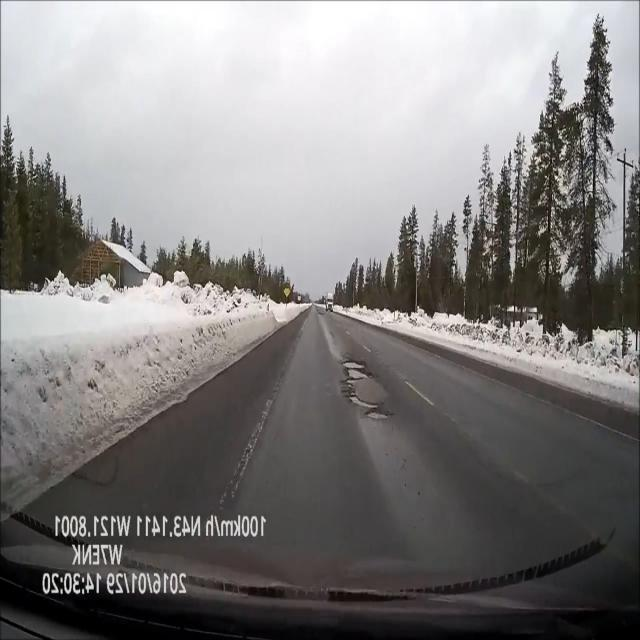pothole: (335, 347, 397, 426)
